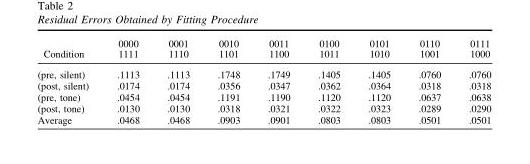table: (36, 37, 490, 124)
table column: (36, 37, 102, 124), (202, 37, 253, 124), (403, 37, 454, 124), (102, 37, 152, 124), (152, 37, 202, 124), (253, 37, 303, 124), (303, 37, 353, 124), (353, 37, 403, 124), (454, 37, 490, 124)
table column header: (36, 37, 490, 63)
table row: (36, 37, 490, 63), (36, 63, 490, 79), (36, 90, 490, 102), (36, 79, 490, 90), (36, 102, 490, 113), (36, 113, 490, 124)
